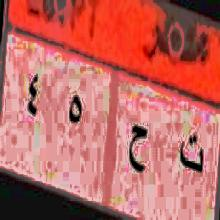4: (28, 67, 40, 129)
5: (66, 95, 84, 138)
7aa: (127, 116, 152, 191)
taa: (177, 118, 206, 186)
